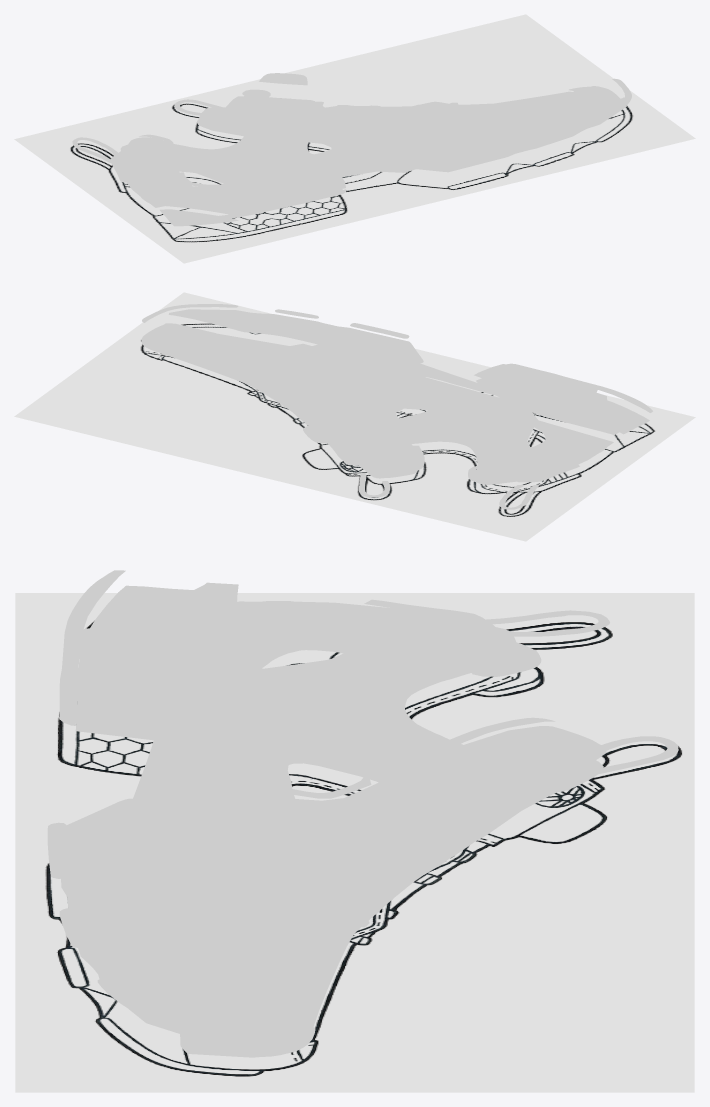
The model's file is Reebok Instapump Fury.FBX.
3 renders of one model, top to bottom at view 1: azimuth 30°, elevation 25°; view 2: azimuth 150°, elevation 25°; view 3: azimuth 270°, elevation 25°, orthographic. The views are drawn at different scales.
Parts seen in each view (by area): view 1: Plane001, Line013, Line011, Line006, Line007, Line003, Line001, Line024, Line014, Line005, Line018, Line015 (+3 smaller); view 2: Plane001, Line013, Line011, Line007, Line006, Line003, Line001, Line014, Line005, Line024, Line018, Line010 (+3 smaller); view 3: Plane001, Line013, Line011, Line007, Line006, Line003, Line001, Line014, Line024, Line005, Line018, Line010 (+9 smaller).
Boxes of the visible parts, <box> form: Plane001: <box>14,14,695,263</box>; Line013: <box>131,96,500,177</box>; Line011: <box>120,96,518,183</box>; Line006: <box>398,97,625,172</box>; Line007: <box>198,91,582,172</box>; Line003: <box>154,175,342,214</box>; Line001: <box>223,171,345,209</box>; Line024: <box>174,78,631,221</box>; Line014: <box>125,137,206,207</box>; Line005: <box>327,132,492,177</box>; Line018: <box>543,86,620,105</box>; Line015: <box>110,151,180,182</box>; Plane001: <box>14,292,695,541</box>; Line013: <box>240,356,533,475</box>; Line011: <box>223,343,547,481</box>; Line007: <box>161,333,428,478</box>; Line006: <box>168,309,423,364</box>; Line003: <box>476,378,623,434</box>; Line001: <box>474,364,597,403</box>; Line014: <box>474,420,613,484</box>; Line005: <box>304,344,494,394</box>; Line024: <box>142,304,652,412</box>; Line018: <box>141,323,202,354</box>; Line010: <box>248,382,368,425</box>; Plane001: <box>15,593,694,1092</box>; Line013: <box>206,626,556,946</box>; Line011: <box>161,616,569,964</box>; Line007: <box>164,726,606,1029</box>; Line006: <box>61,798,189,1034</box>; Line003: <box>75,582,238,740</box>; Line001: <box>76,621,166,733</box>; Line014: <box>225,601,539,674</box>; Line024: <box>47,570,261,1036</box>; Line005: <box>133,720,205,904</box>; Line018: <box>182,994,301,1055</box>; Line010: <box>280,825,474,927</box>.
Size of the model in its own units: 261 by 12.87 by 150.
1 material, 1 textured.
